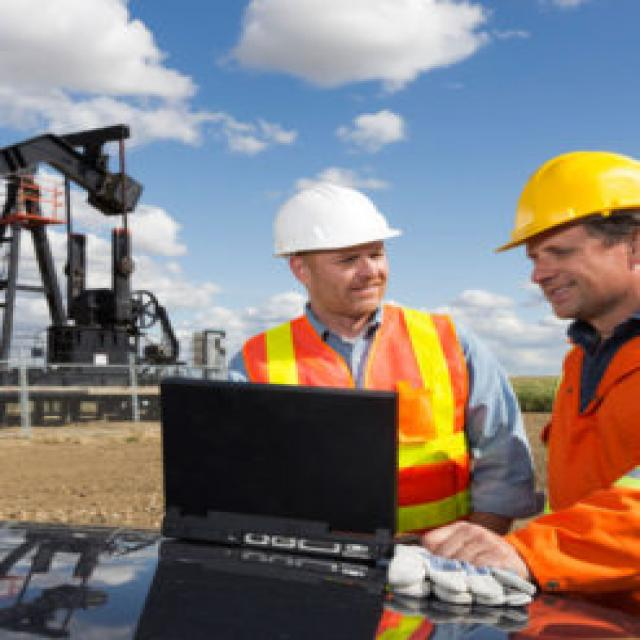Reflective-Jacket: (241, 303, 479, 540), (516, 316, 640, 602)
Safety-Helmet: (490, 147, 637, 256), (264, 177, 402, 265)
